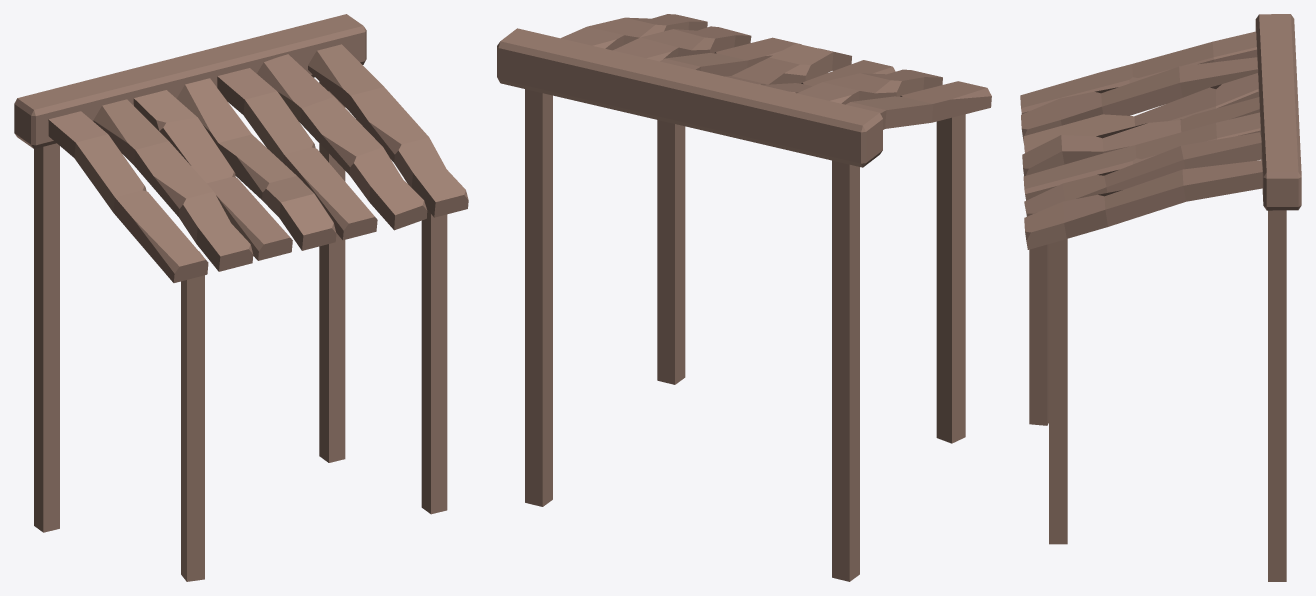
File: wornShack.fbx
3 renders of one model, left to right at view 1: azimuth 30°, elevation 25°; view 2: azimuth 150°, elevation 25°; view 3: azimuth 270°, elevation 25°, orthographic. The views are drawn at different scales.
Visible parts, largest first — view 1: Cube.002; view 2: Cube.002; view 3: Cube.002.
Part boxes in pixels (box(x1,y1,x2,y2)): Cube.002: box(14, 14, 468, 581); Cube.002: box(497, 14, 991, 581); Cube.002: box(1020, 14, 1301, 581).
Size of the model in its own units: 152 by 183 by 112.
